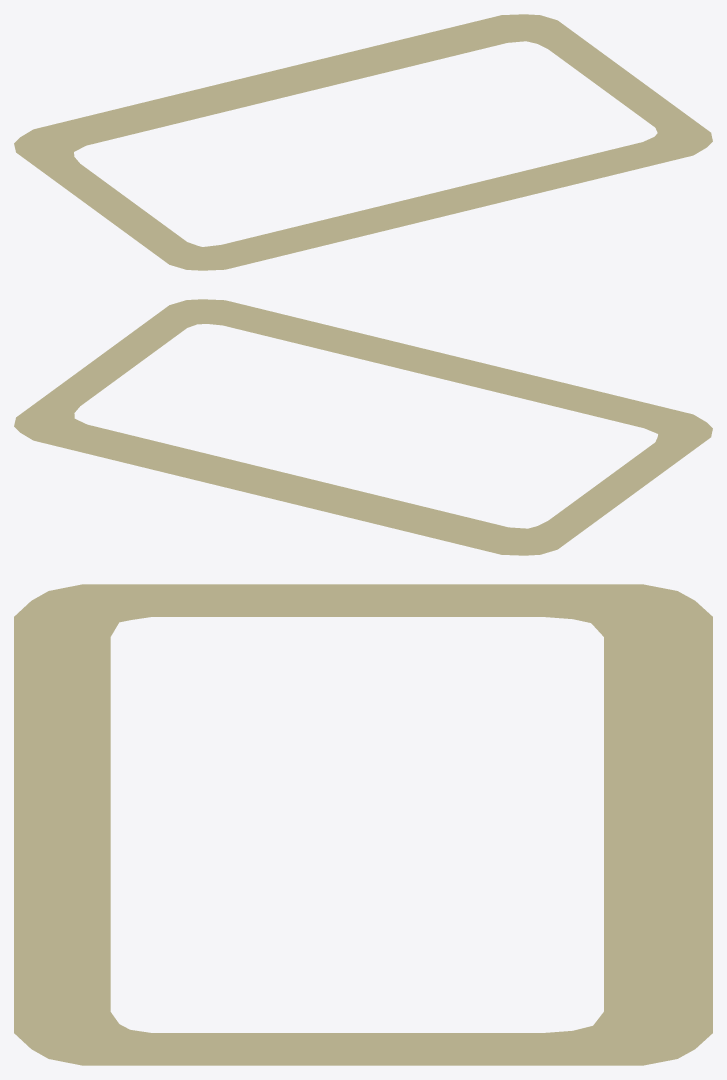
File: Prop_sci_light_wall1.FBX
The picture shows the model from 3 angles, top to bottom: view 1: azimuth 30°, elevation 25°; view 2: azimuth 150°, elevation 25°; view 3: azimuth 270°, elevation 25°; orthographic projection. The views are drawn at different scales.
Parts seen in each view (by area): view 1: Prop_sci_light_c1; view 2: Prop_sci_light_c1; view 3: Prop_sci_light_c1.
Boxes of the visible parts, <box> form: Prop_sci_light_c1: <box>14,14,712,270</box>; Prop_sci_light_c1: <box>14,299,712,555</box>; Prop_sci_light_c1: <box>14,584,712,1065</box>.
Bounding box in the file's own units: 37.26 × 9.99e-07 × 22.85.
